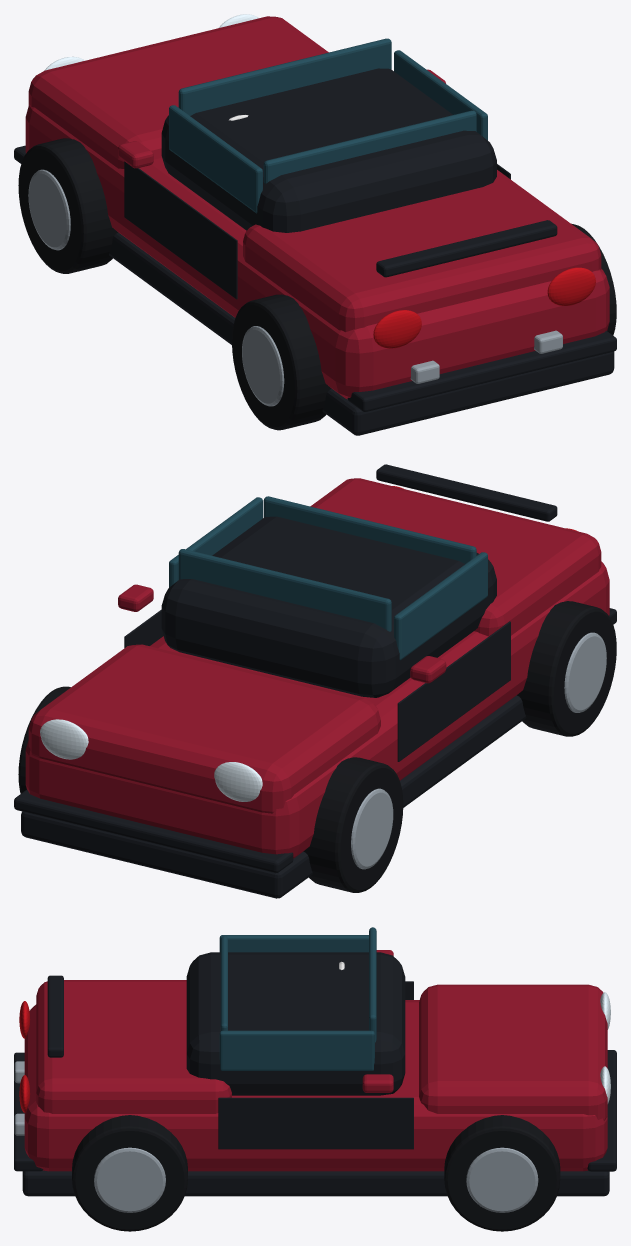
The model's file is marsh_nsx91_detail_prototype.fbx.
3 renders of one model, top to bottom at view 1: azimuth 30°, elevation 25°; view 2: azimuth 150°, elevation 25°; view 3: azimuth 270°, elevation 25°, orthographic. The views are drawn at different scales.
Visible parts, largest first — view 1: Cabin, RearDeck, Body, FrontWedge, Undertray, PerformanceTire.001, PerformanceTire, DoorSeam, Windshield, RearDiffuser, SideGlass, RearGlass (+8 smaller); view 2: FrontWedge, Cabin, Body, RearDeck, Undertray, PerformanceTire, PerformanceTire.001, DoorSeam, Windshield, FrontSplitter, SideGlass, RearGlass (+10 smaller); view 3: FrontWedge, Cabin, RearDeck, Body, DoorSeam.001, Undertray, PerformanceTire.003, PerformanceTire.002, SideGlass.001, AlloyWheel.003, AlloyWheel.002, SideGlass (+6 smaller).
Boxes of the visible parts, box(x1,y1,x2,y2) form: Cabin: box(161, 68, 496, 232); RearDeck: box(243, 170, 601, 332); Body: box(25, 104, 609, 399); FrontWedge: box(28, 16, 328, 168); Undertray: box(109, 232, 614, 435); PerformanceTire.001: box(18, 138, 118, 273); PerformanceTire: box(232, 294, 331, 430); DoorSeam: box(124, 161, 237, 299); Windshield: box(178, 38, 391, 115); RearDiffuser: box(347, 330, 616, 411); SideGlass: box(169, 105, 262, 213); RearGlass: box(263, 110, 476, 183); FrontWedge: box(28, 644, 380, 813); Cabin: box(161, 516, 496, 697); Body: box(25, 561, 609, 858); RearDeck: box(310, 478, 601, 636); Undertray: box(21, 695, 526, 898); PerformanceTire: box(517, 601, 616, 736); PerformanceTire.001: box(303, 757, 403, 892); DoorSeam: box(397, 621, 510, 761); Windshield: box(178, 549, 391, 631); FrontSplitter: box(14, 789, 293, 873); SideGlass: box(394, 552, 487, 660); RearGlass: box(263, 496, 476, 563); FrontWedge: box(419, 984, 607, 1120); Cabin: box(186, 952, 405, 1095); RearDeck: box(36, 980, 231, 1113); Body: box(24, 1000, 607, 1171); DoorSeam.001: box(218, 1097, 413, 1149); Undertray: box(22, 1170, 609, 1196); PerformanceTire.003: box(444, 1115, 560, 1231); PerformanceTire.002: box(72, 1115, 187, 1231); SideGlass.001: box(219, 1030, 374, 1070); AlloyWheel.003: box(466, 1147, 538, 1212); AlloyWheel.002: box(94, 1147, 165, 1212); SideGlass: box(219, 935, 368, 952).
Size of the model in its own units: 2.44 by 1.58 by 4.47.
